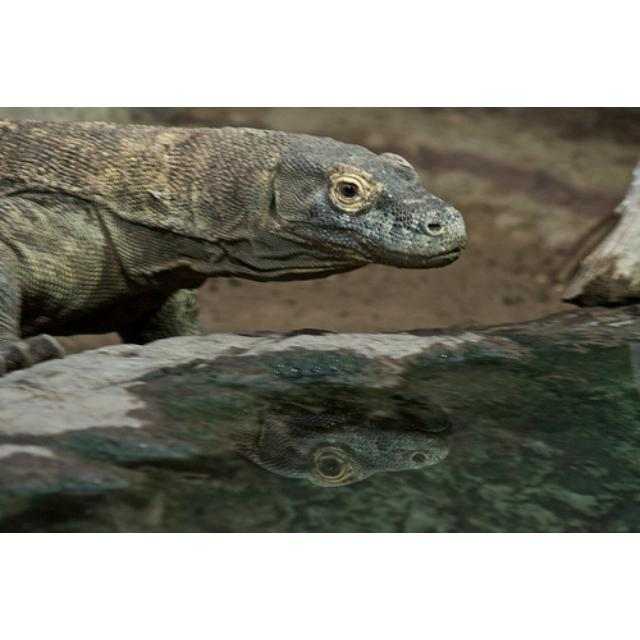KomodoDragon: (1, 115, 466, 373)
